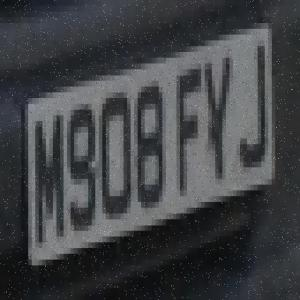Plate: (15, 16, 285, 262)
